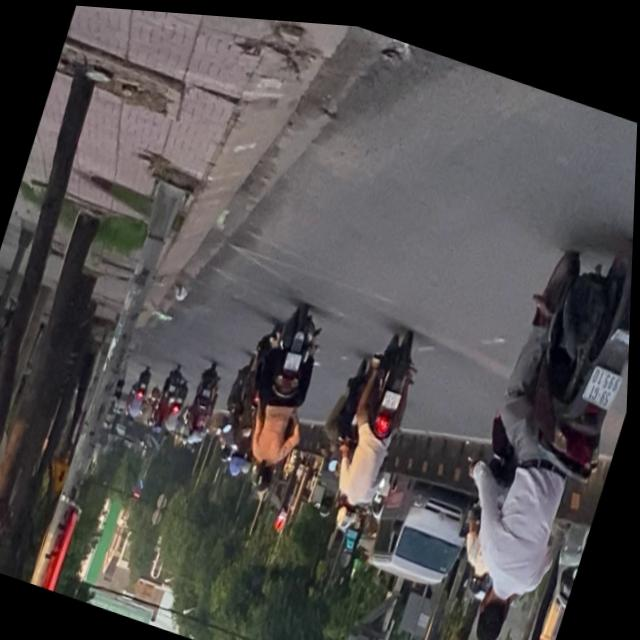helmet: (253, 453, 280, 489), (336, 492, 362, 528)
licenseplate: (426, 195, 635, 640), (319, 313, 434, 549), (218, 284, 341, 497)
motorcyclist: (472, 575, 521, 640)
nohelmet: (584, 356, 625, 402), (383, 382, 404, 405), (285, 345, 303, 367)
